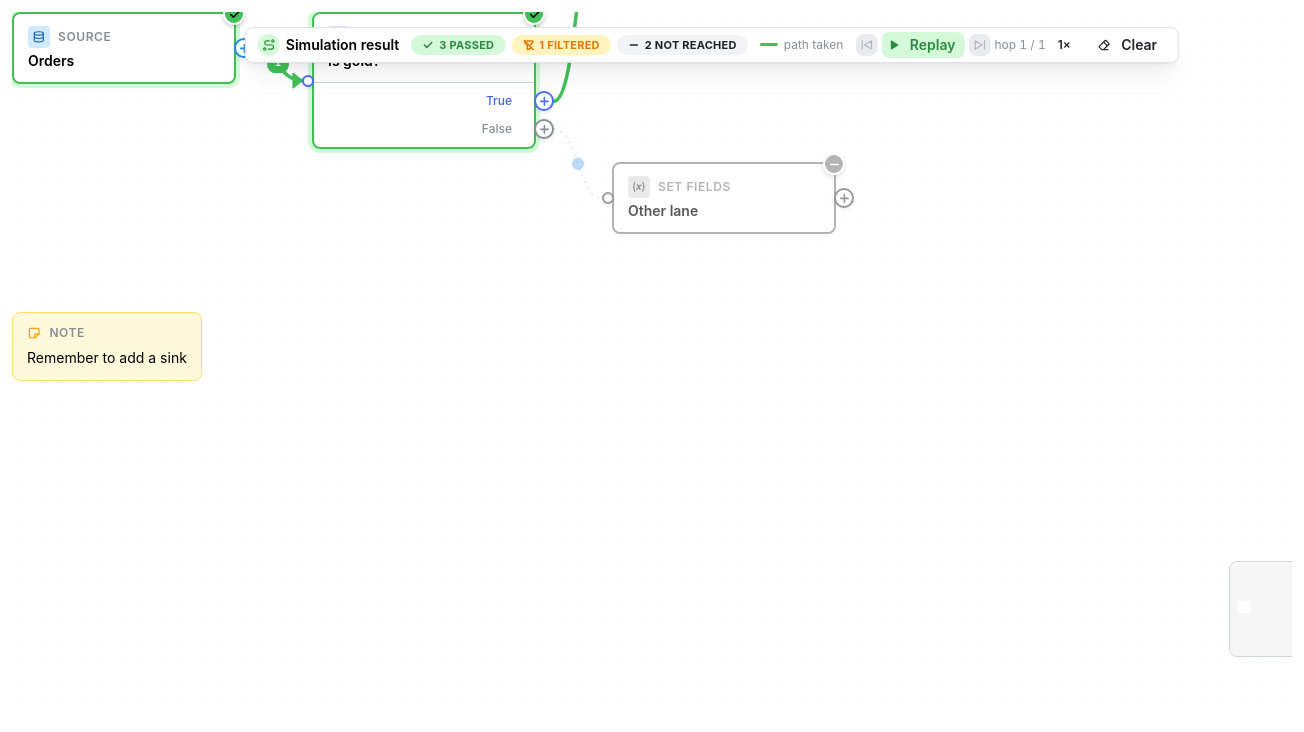
Test: the canvas after a simulation › sums the run up in one place, and clearing it restores the canvas
Check: the element "Simulation result" shows "3 passed", box [245,27,1179,63]
Check: the element "Simulation result" shows "1 filtered", box [245,27,1179,63]
Click the button with aria-label "clear simulation": (1129, 45) [1091,32,1166,58]
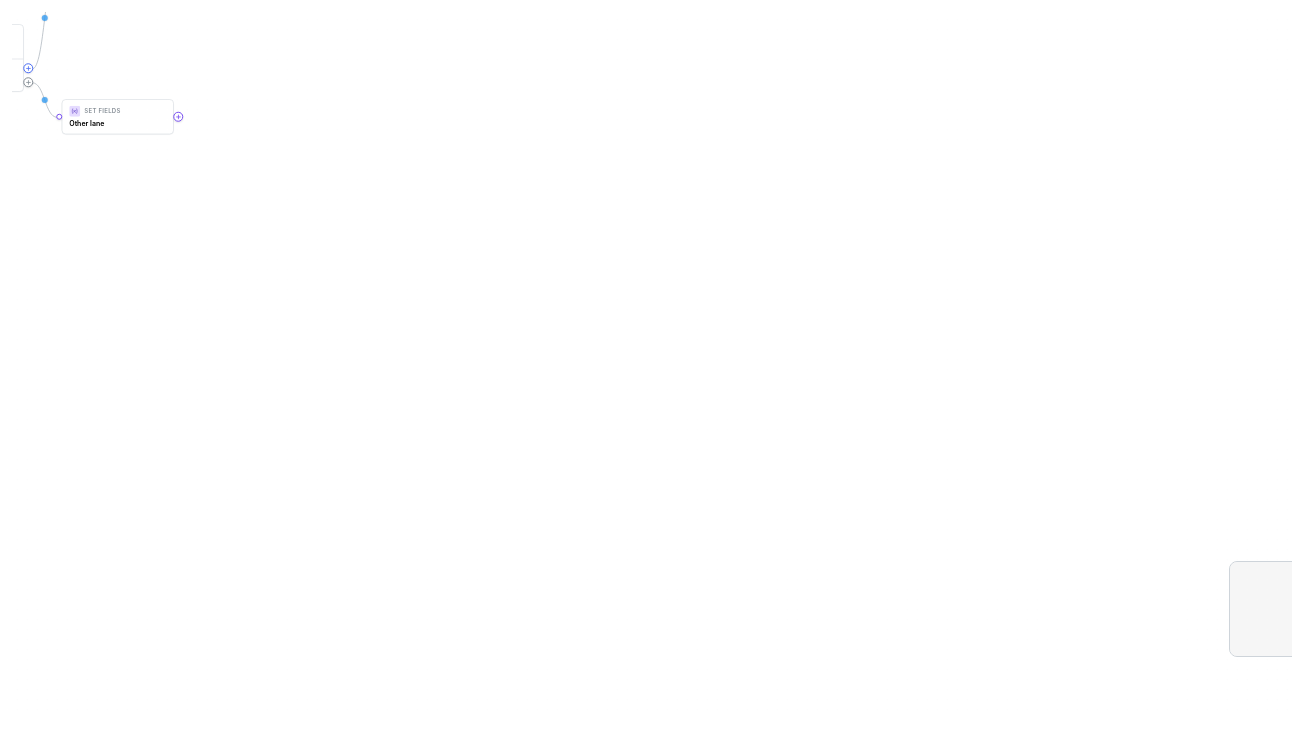
Check: the text "Simulation:" is not shown
Check: the text "Simulation result" is gone
